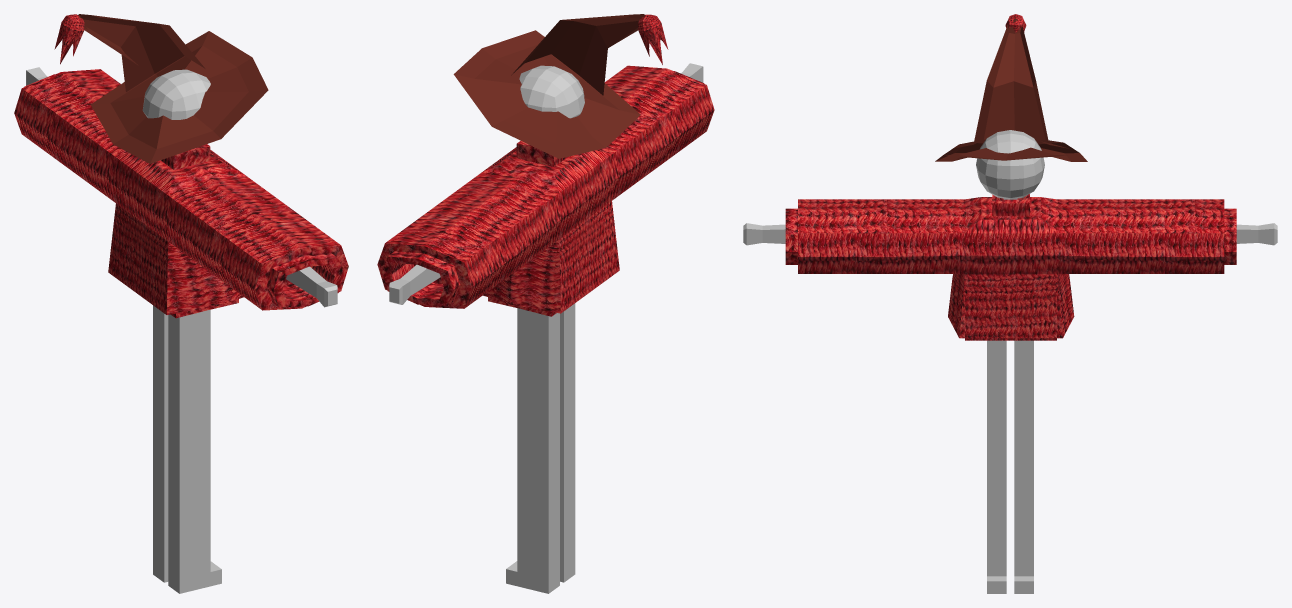
File: FscarecrowTW.fbx
The picture shows the model from 3 angles, left to right: view 1: azimuth 30°, elevation 25°; view 2: azimuth 150°, elevation 25°; view 3: azimuth 270°, elevation 25°; orthographic projection. The views are drawn at different scales.
Parts seen in each view (by area): view 1: Cube.002, Cube, Cube.003, Cube.001, Cube.004; view 2: Cube.002, Cube, Cube.003, Cube.001, Cube.004; view 3: Cube.002, Cube, Cube.003, Cube.001.
Part boxes in pixels (box(x1,y1,x2,y2)): Cube.002: box(14, 69, 348, 318); Cube: box(26, 67, 337, 593); Cube.003: box(78, 14, 268, 163); Cube.001: box(142, 69, 210, 119); Cube.004: box(54, 14, 84, 64); Cube.002: box(377, 65, 714, 316); Cube: box(389, 63, 703, 593); Cube.003: box(453, 14, 644, 158); Cube.001: box(519, 65, 584, 118); Cube.004: box(638, 14, 668, 64); Cube.002: box(785, 194, 1236, 340); Cube: box(743, 198, 1277, 593); Cube.003: box(935, 18, 1087, 161); Cube.001: box(976, 130, 1044, 199).
Size of the model in its own units: 817 by 2444 by 2272.
